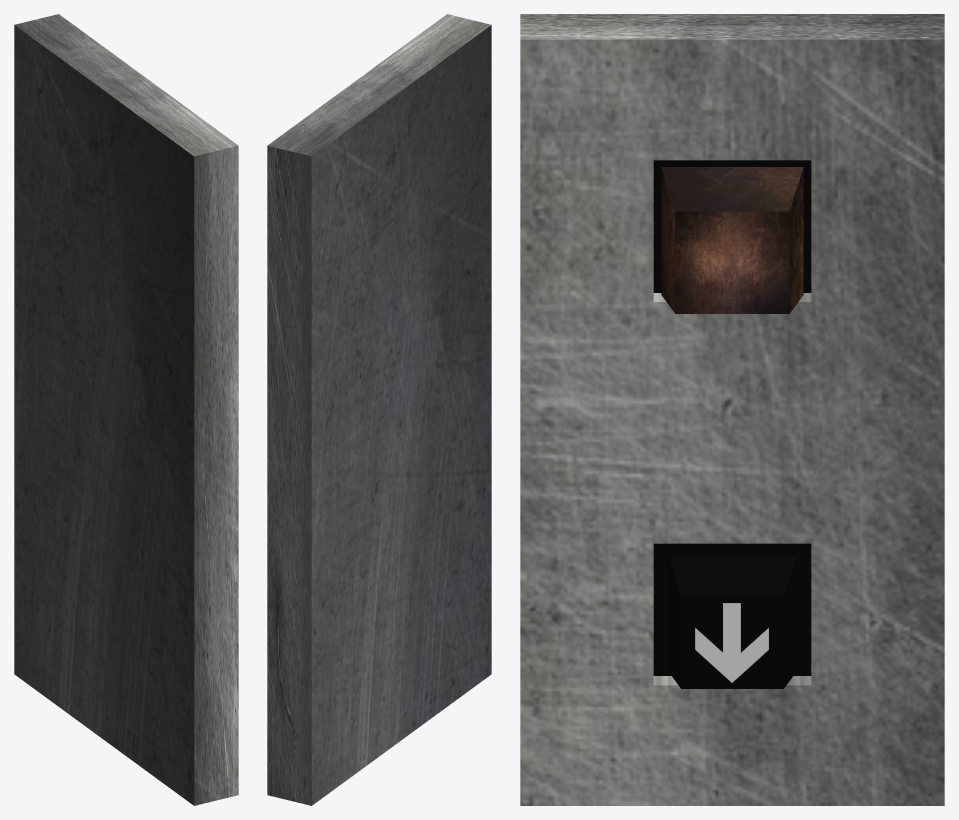
The model's file is Elevator-Panel.fbx.
The picture shows the model from 3 angles, left to right: view 1: azimuth 30°, elevation 25°; view 2: azimuth 150°, elevation 25°; view 3: azimuth 270°, elevation 25°; orthographic projection. The views are drawn at different scales.
Visible parts, largest first — view 1: Panel; view 2: Panel; view 3: Panel, Button Up, Button Down.
Part boxes in pixels (x1,y1,x2,y2): Panel: [14, 14, 238, 805]; Panel: [267, 14, 491, 805]; Panel: [520, 14, 944, 805]; Button Up: [661, 167, 803, 313]; Button Down: [668, 556, 796, 688].
Size of the model in its own units: 8.16 by 50.88 by 25.54.
Materials: 4 (3 with a texture image).
